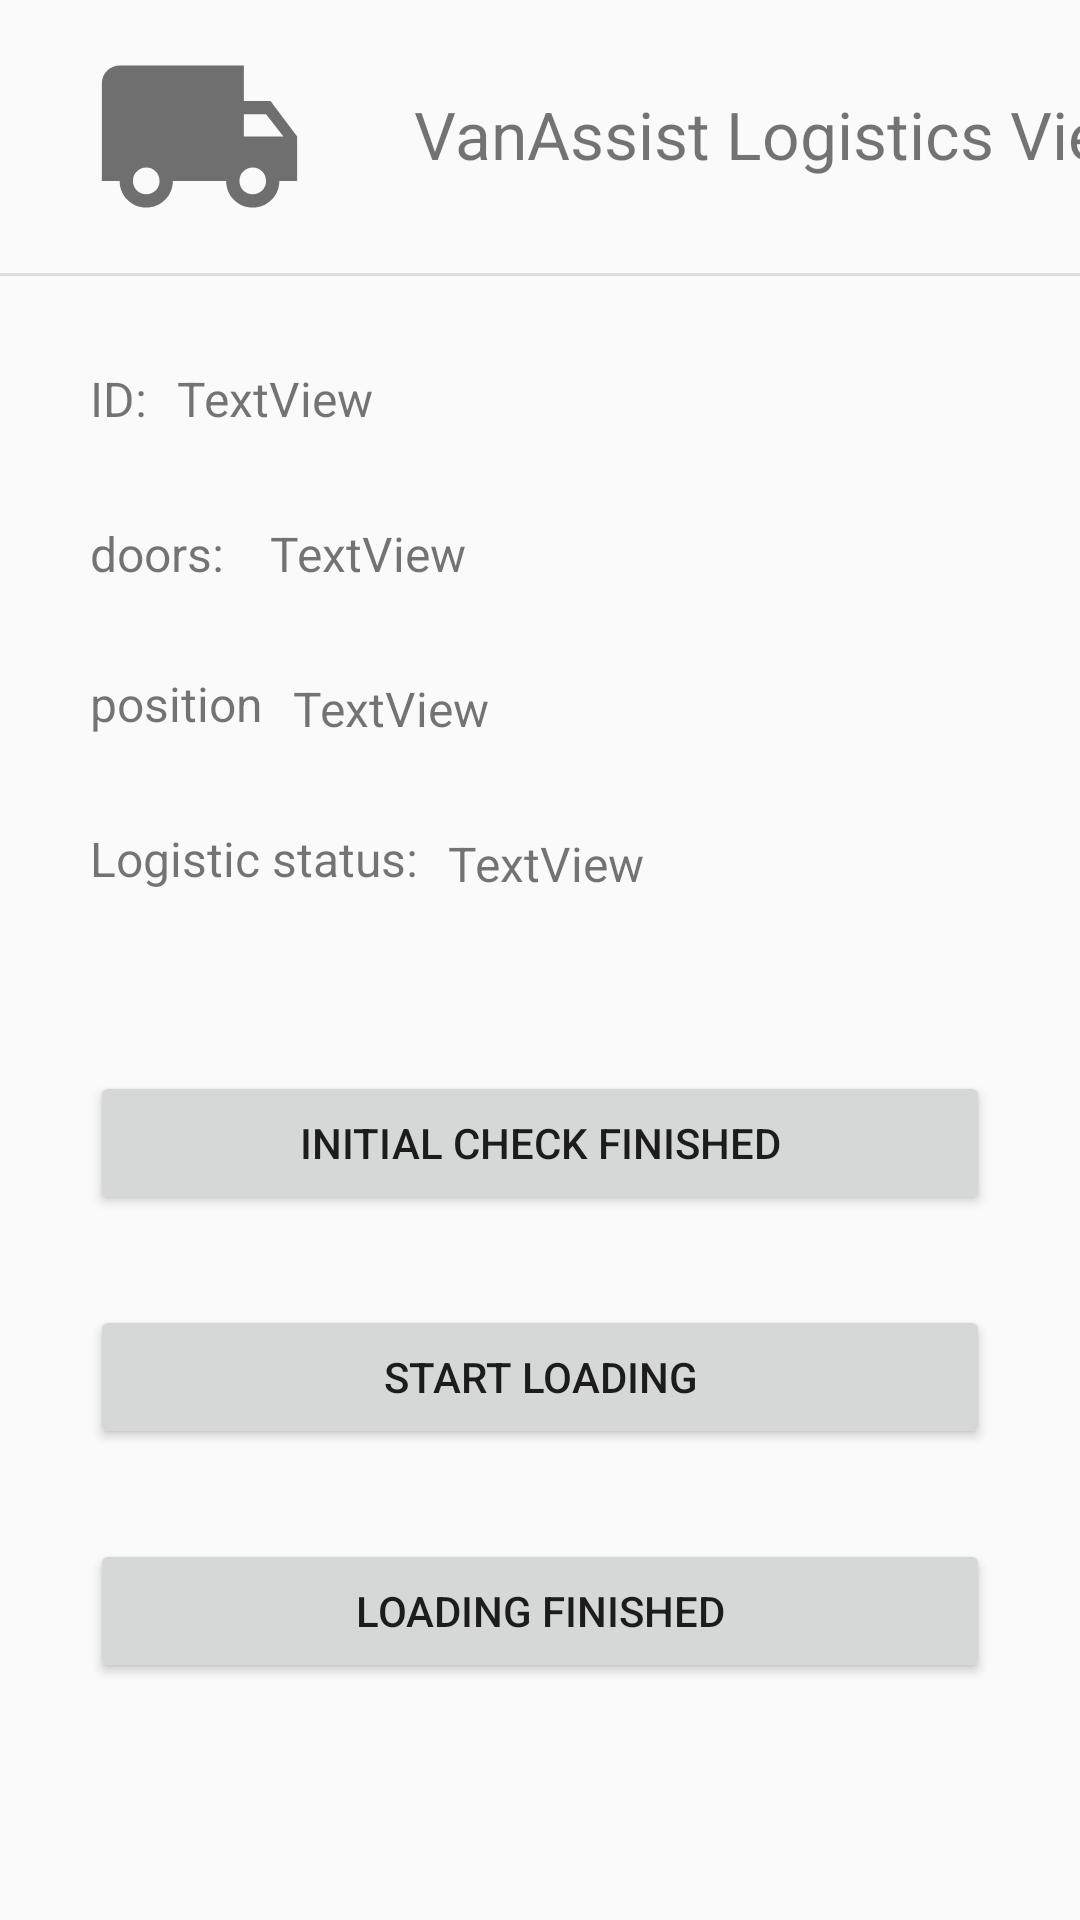

Icon bounding boxes for this 1080w x 1920h phone screenshot, format (x1, y1, x2, y2):
local shipping: (102, 65, 297, 208)
